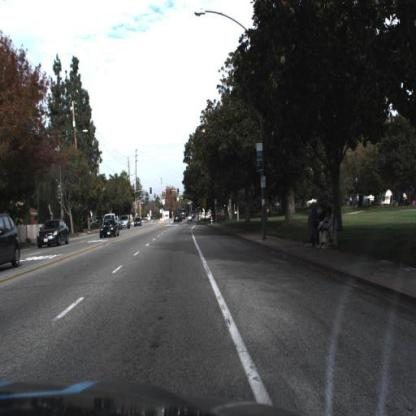car: (35, 214, 73, 253), (98, 217, 122, 242), (171, 213, 183, 229), (119, 215, 132, 229), (132, 216, 145, 229)
pedestrian: (318, 209, 334, 253), (314, 202, 328, 247)
